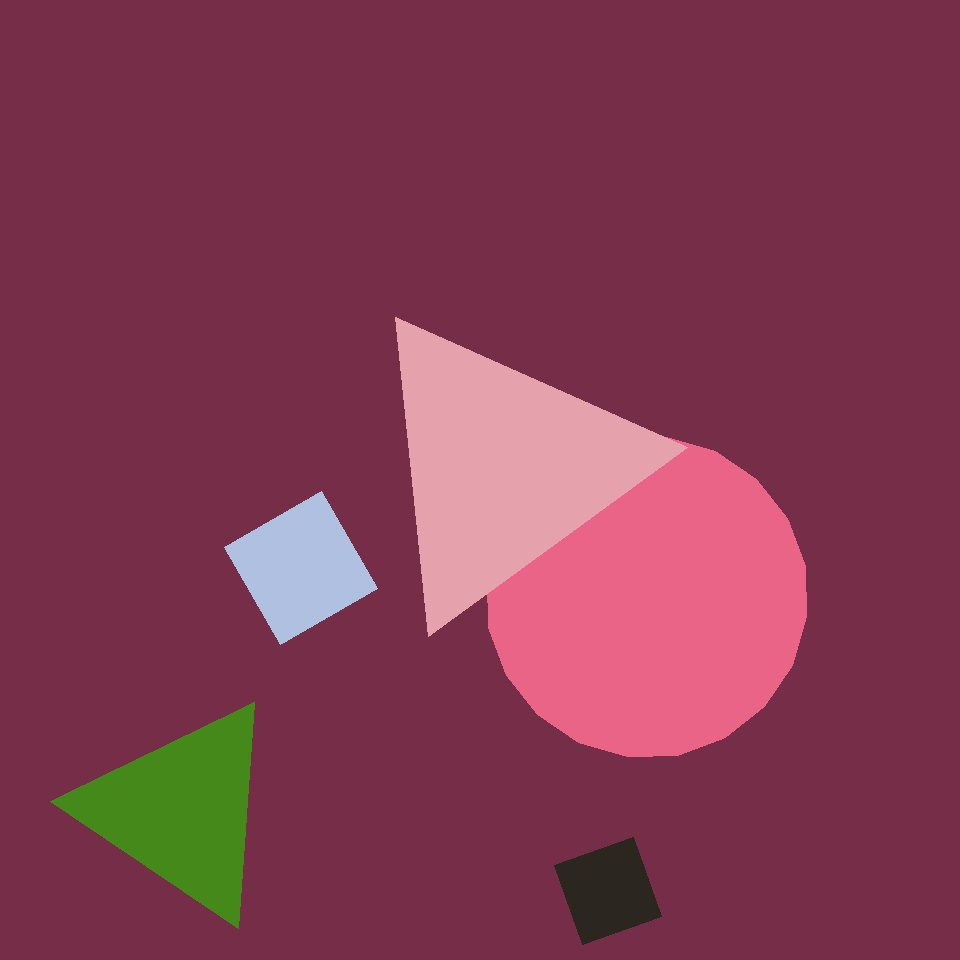circle: (358, 308, 650, 626), (254, 129, 521, 394), (176, 107, 389, 343), (79, 698, 283, 924)
square: (254, 256, 433, 435), (224, 492, 377, 644), (554, 837, 662, 944), (463, 496, 564, 596)
triangle: (488, 437, 806, 756), (679, 694, 923, 938), (779, 673, 946, 840), (804, 588, 936, 721)
